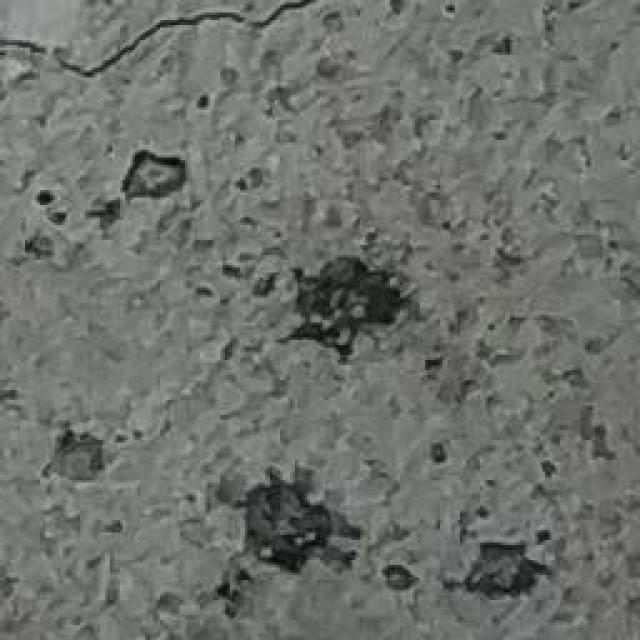Annular: (0, 125, 565, 603)
Transverse: (0, 0, 351, 86)
